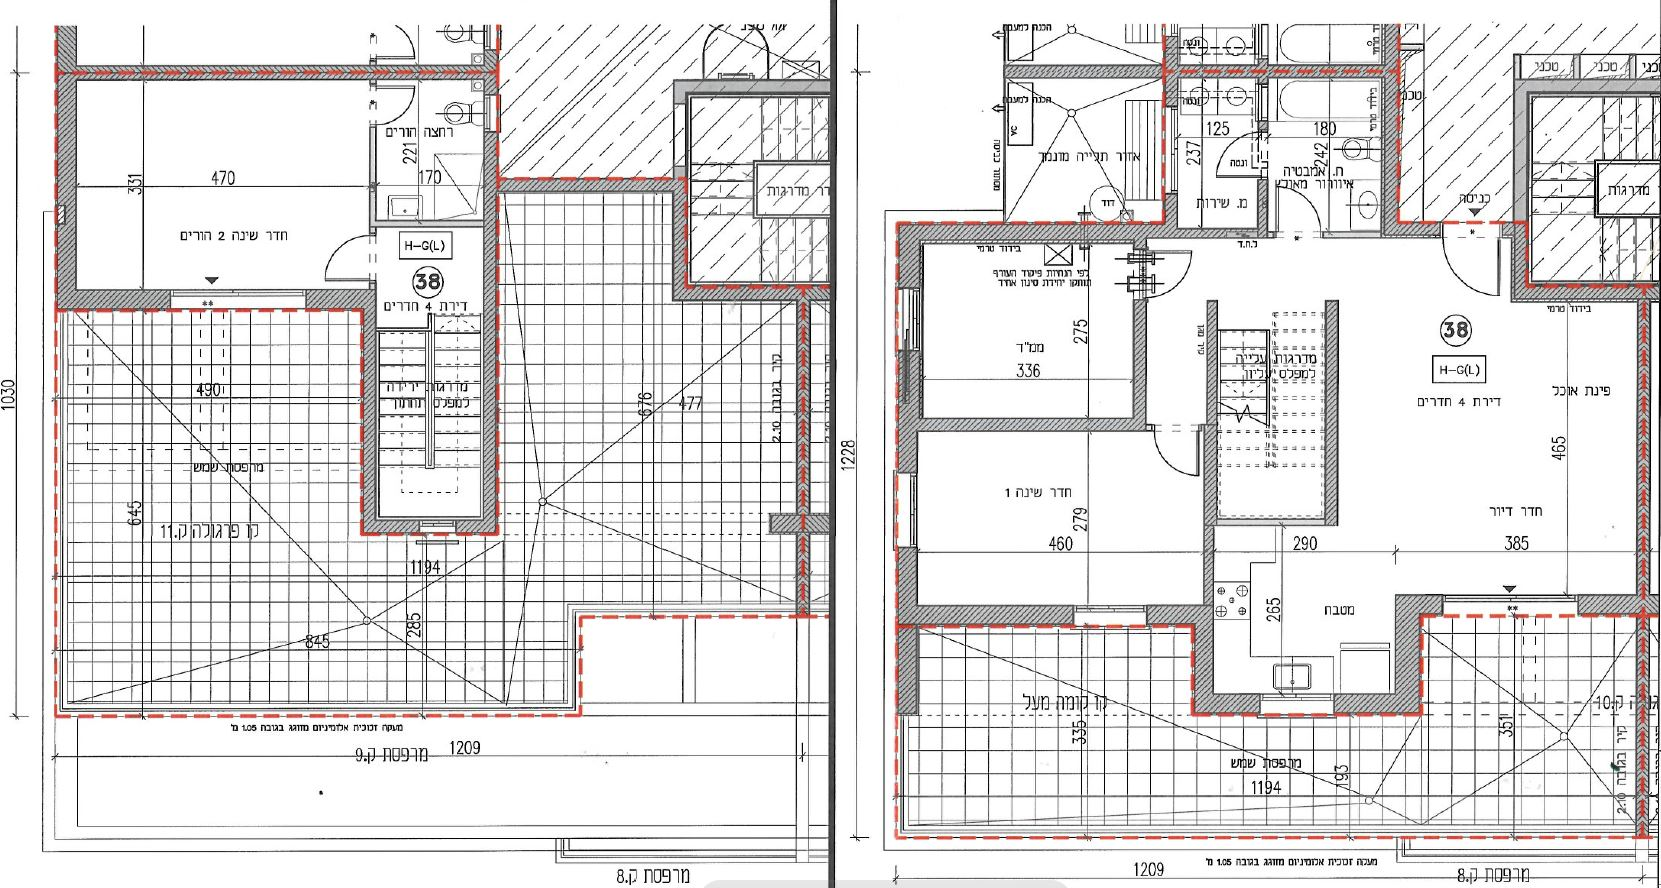door: (1136, 437, 1202, 492), (1435, 240, 1501, 295)
wall: (898, 601, 1075, 626), (904, 222, 1134, 240), (59, 80, 76, 311)
